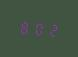eight: (18, 18, 30, 36)
two: (45, 20, 57, 38)
zero: (32, 19, 44, 37)
